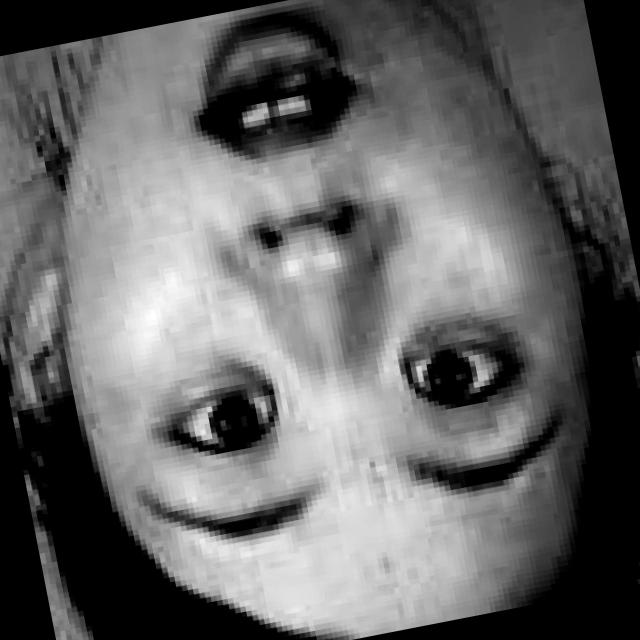surprise: (33, 0, 621, 624)
